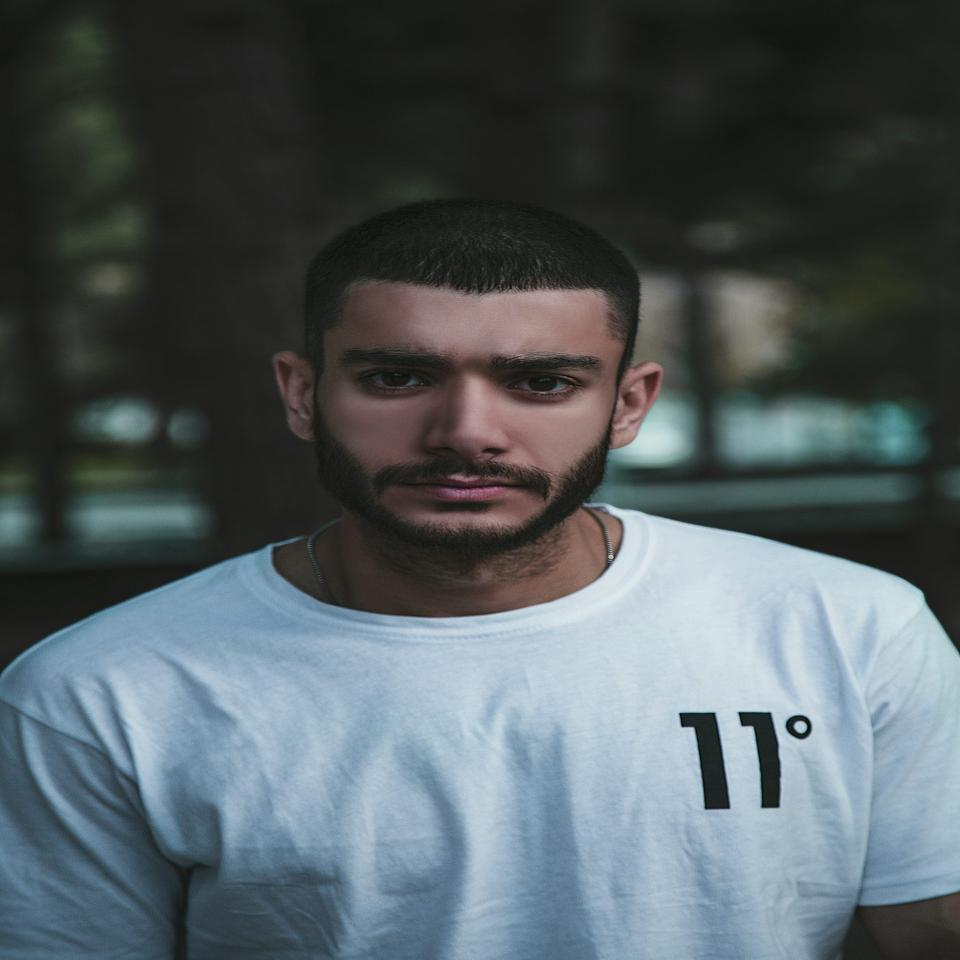Sadness: (309, 260, 623, 554)
